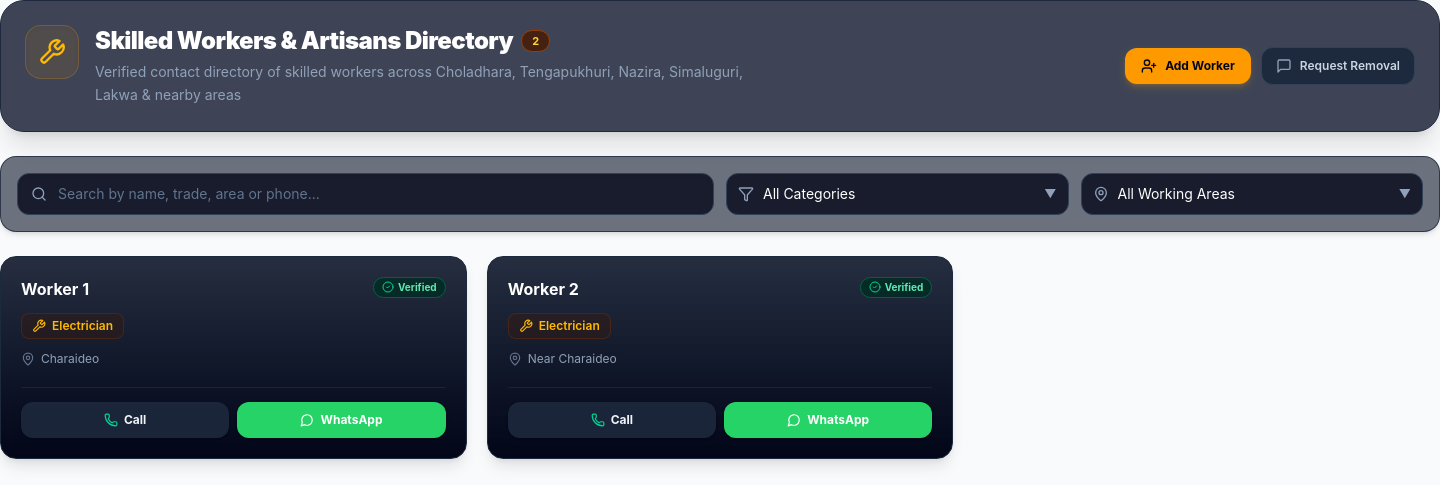
SkilledWorkers › filters areas exactly ("Charaideo" excludes "Near Charaideo")
Select "Charaideo" in the 2nd dropdown: coordinates (1252, 194) top-left (1080, 172), bottom-right (1423, 214)
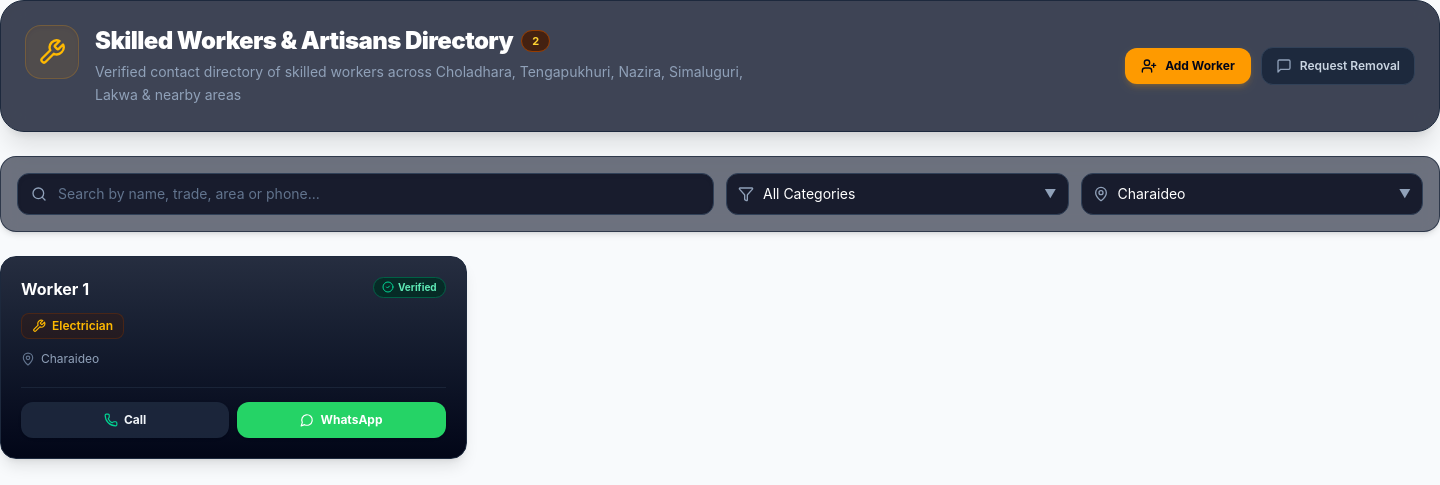
Expected: the heading "Worker 1" is shown, top-left (21, 276), bottom-right (89, 300)
Now the heading "Worker 2" is gone
